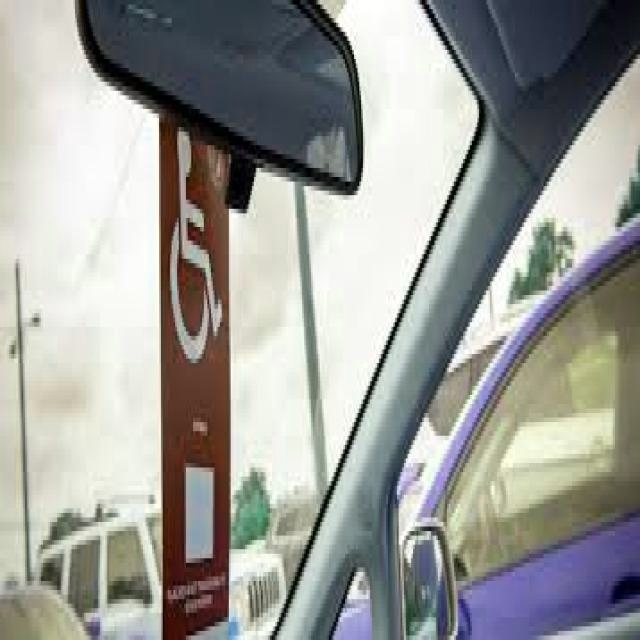ISA: (170, 123, 227, 371)
